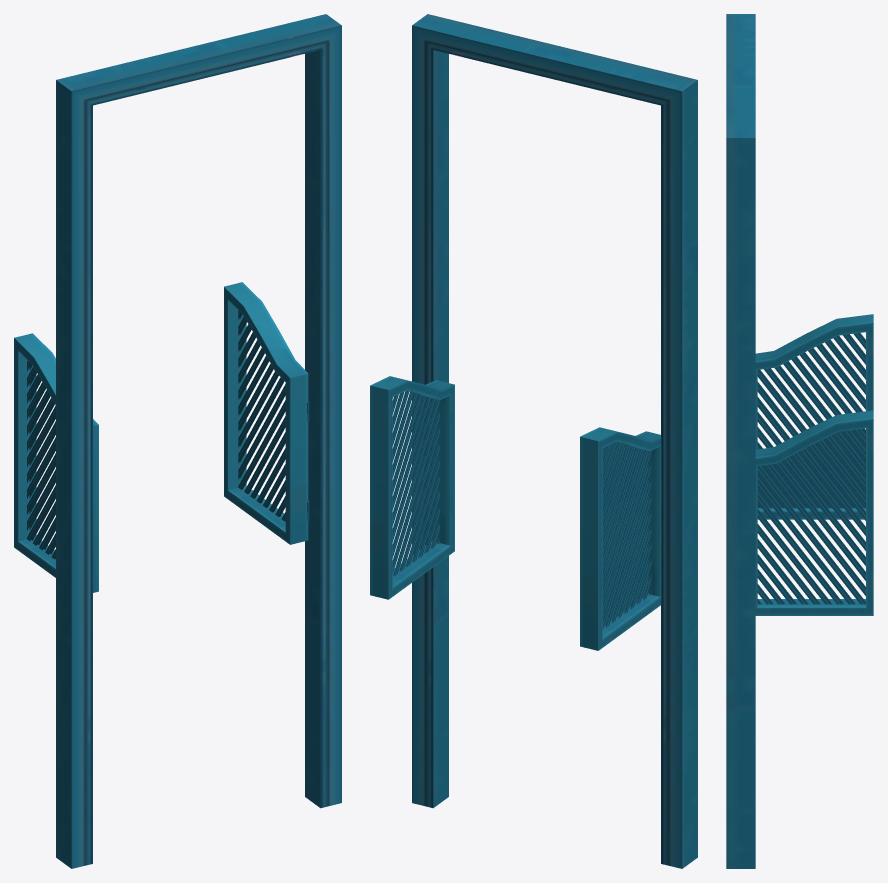
Rendered from furni_0200066.FBX.
The picture shows the model from 3 angles, left to right: view 1: azimuth 30°, elevation 25°; view 2: azimuth 150°, elevation 25°; view 3: azimuth 270°, elevation 25°; orthographic projection. The views are drawn at different scales.
Visible parts, largest first — view 1: furni_0200066; view 2: furni_0200066; view 3: furni_0200066.
Part boxes in pixels (x1,y1,x2,y2): furni_0200066: (14,14,341,868); furni_0200066: (370,14,697,868); furni_0200066: (726,14,873,868).
Bounding box in the file's own units: 80 × 220 × 40.24.
1 material, 1 textured.
